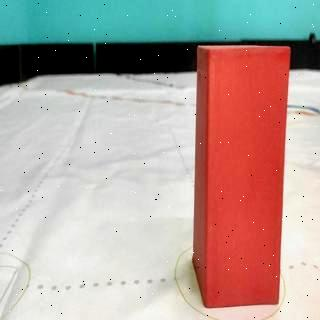redbox: (192, 42, 292, 308)
